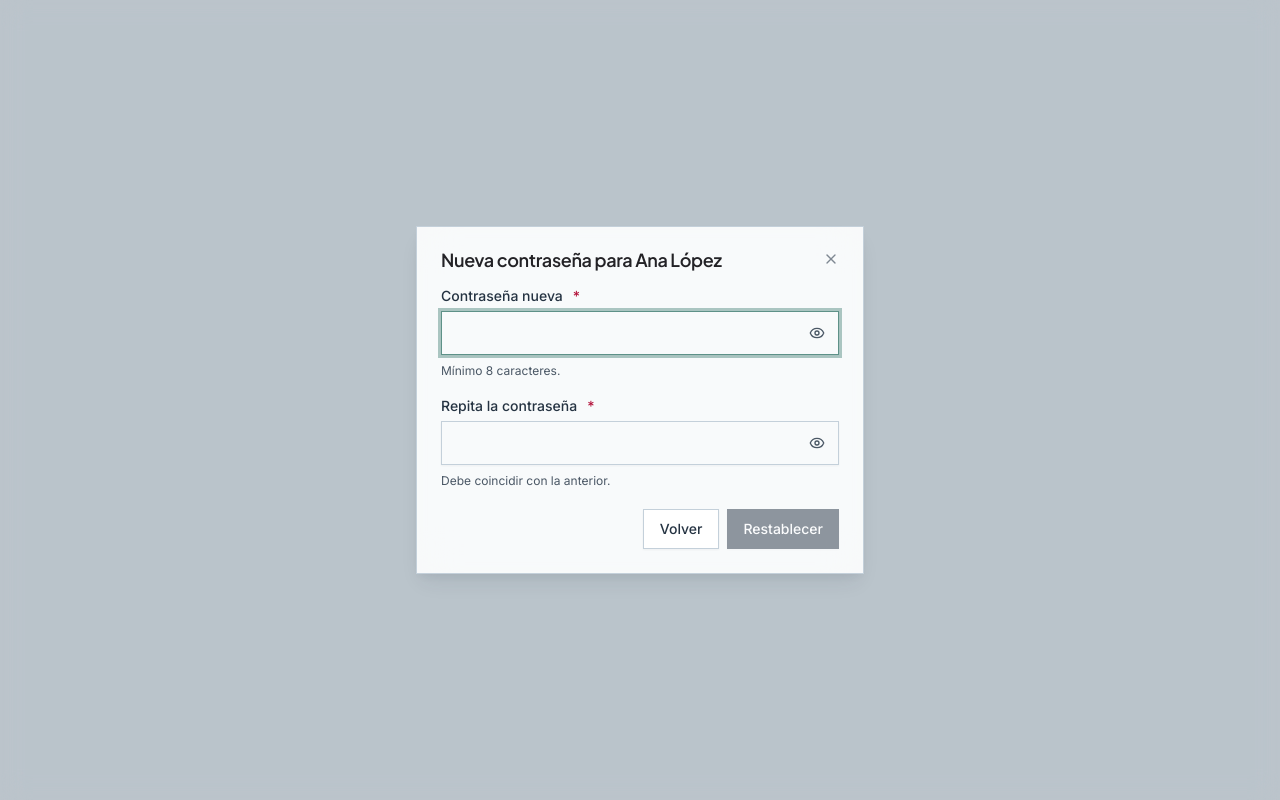
Test: ContrasenaDialog › no deja guardar mientras las dos contraseñas no coincidan
This screenshot has width=1280, height=800.
Type "ClaveSegura2026" into the password field labelled "Contraseña nueva *" at {"x": 640, "y": 333}, box [441,311,839,355]
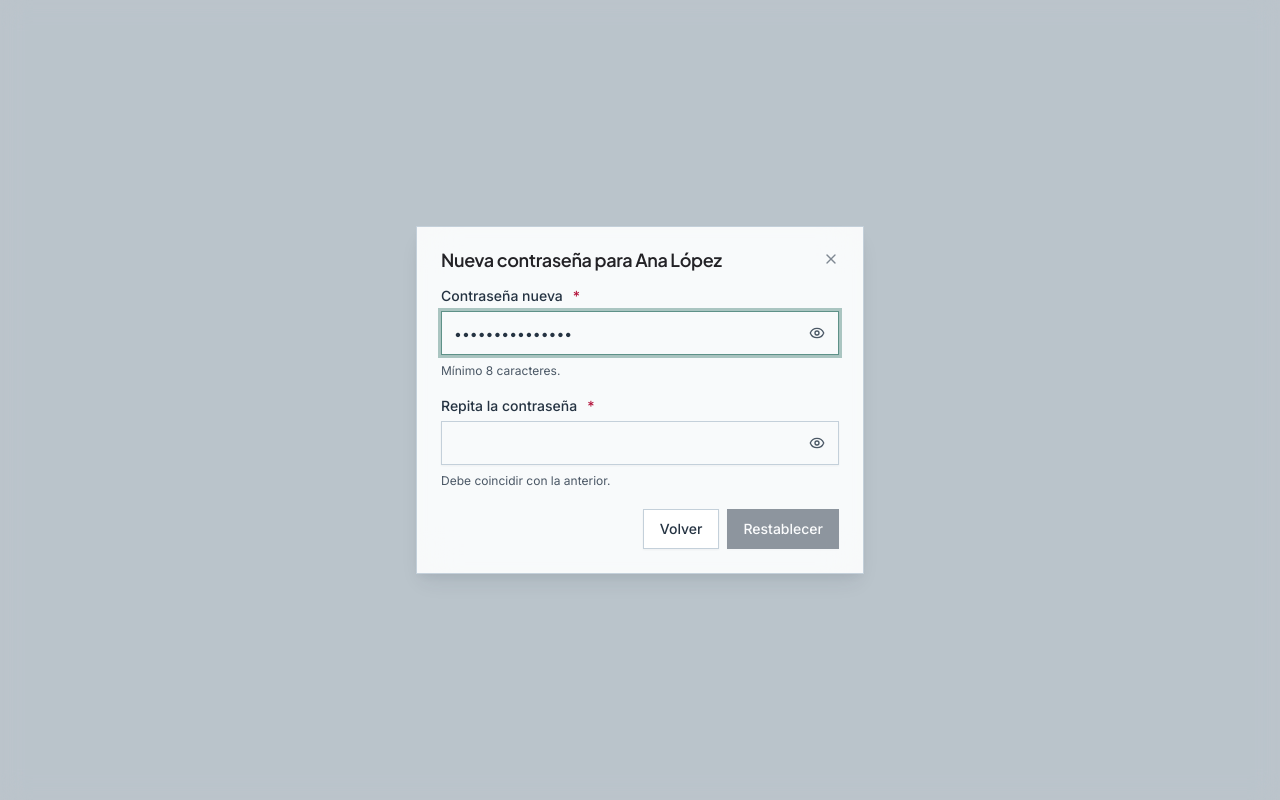
Type "ClaveSegura2027" into the password field labelled "Repita la contraseña *" at {"x": 640, "y": 443}, box [441,421,839,465]
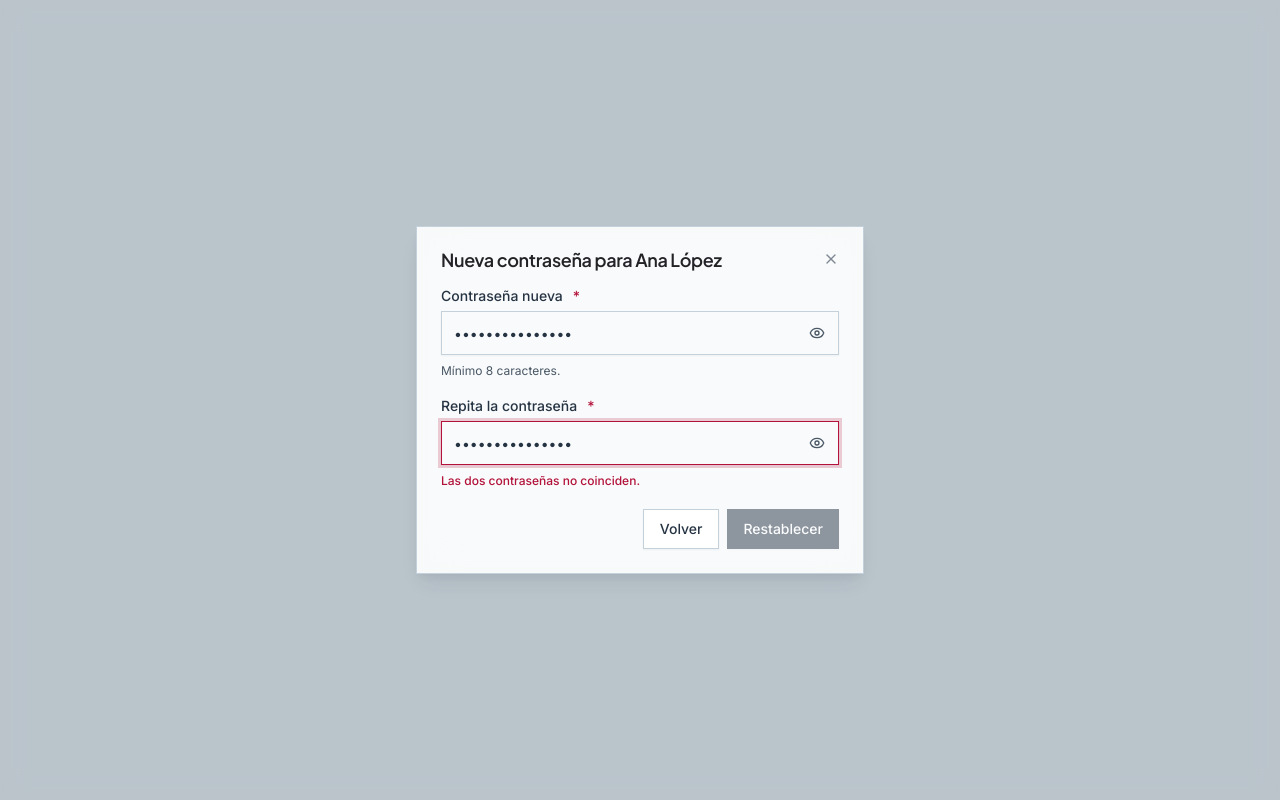
Expected: the button "Restablecer" is disabled, [727,509,839,549]
Now the text "Las dos contraseñas no coinciden." is shown, box [441,473,640,488]
